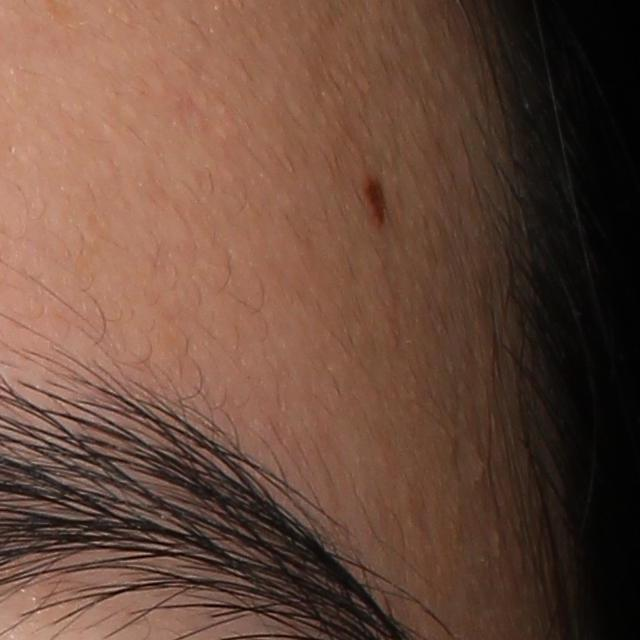nevus: (362, 170, 390, 231)
